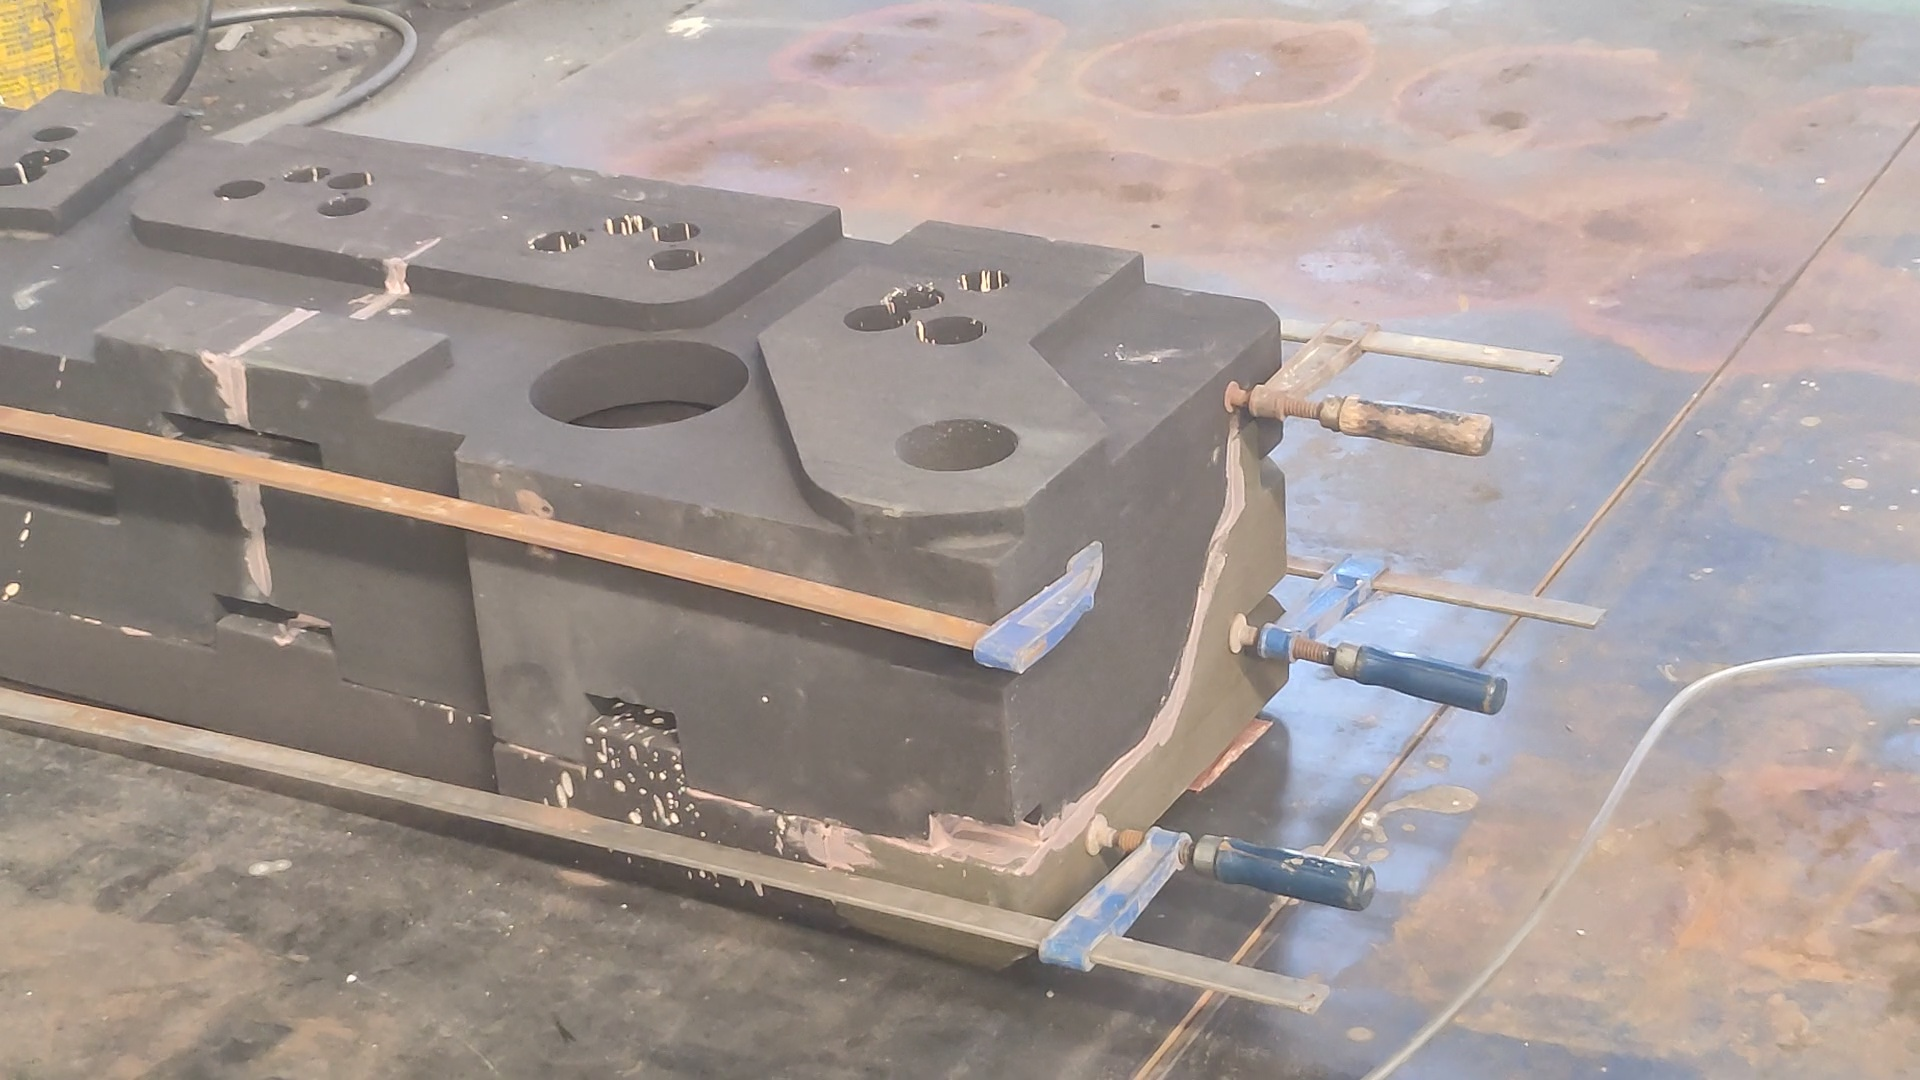pouring hole: (894, 418, 1018, 471)
